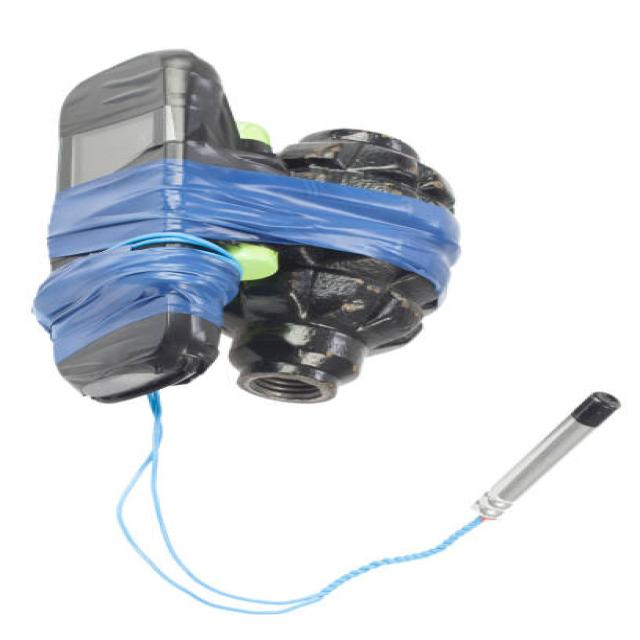grenade: (212, 130, 463, 408)
